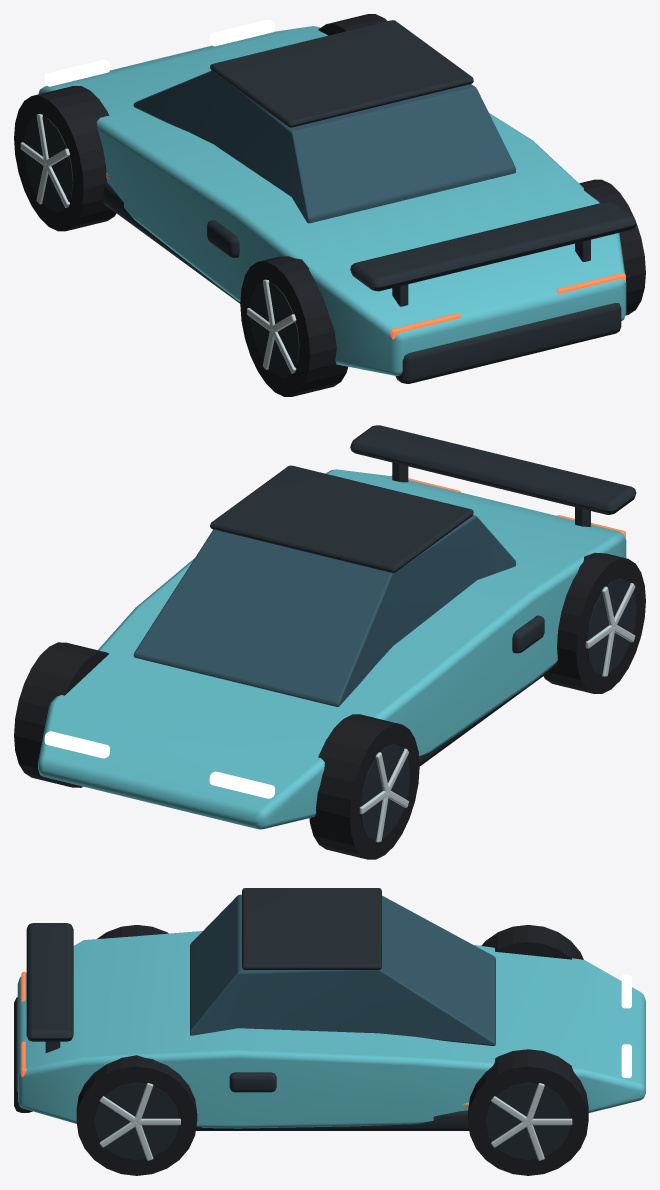
Rendered from jet-r.glb.
3 renders of one model, top to bottom at view 1: azimuth 30°, elevation 25°; view 2: azimuth 150°, elevation 25°; view 3: azimuth 270°, elevation 25°, orthographic. The views are drawn at different scales.
Parts seen in each view (by area): view 1: Aero_body, Cockpit, Roof_spar, Rear_spoiler, Wheel.001, Wheel, Rear_diffuser, Wheel_rim, Wheel_rim.001, Wheel.002, Side_skirt, Headlight.001 (+3 smaller); view 2: Aero_body, Cockpit, Roof_spar, Rear_spoiler, Wheel.001, Wheel, Wheel.003, Wheel_rim, Wheel_rim.001, Headlight, Headlight.001, Side_thruster (+1 smaller); view 3: Aero_body, Cockpit, Roof_spar, Wheel.003, Wheel.002, Rear_spoiler, Wheel_rim.002, Wheel_rim.003, Wheel.001, Side_skirt.001, Side_thruster.001, Wheel (+1 smaller).
Boxes of the visible parts, bbox=[...] form: Aero_body: bbox=[38, 26, 626, 375]; Cockpit: bbox=[133, 70, 515, 223]; Roof_spar: bbox=[210, 20, 473, 127]; Rear_spoiler: bbox=[350, 201, 636, 291]; Wheel.001: bbox=[14, 86, 116, 231]; Wheel: bbox=[240, 256, 347, 396]; Rear_diffuser: bbox=[395, 303, 621, 383]; Wheel_rim: bbox=[250, 282, 299, 377]; Wheel_rim.001: bbox=[23, 116, 73, 211]; Wheel.002: bbox=[579, 179, 645, 315]; Side_skirt: bbox=[103, 182, 240, 303]; Headlight.001: bbox=[209, 19, 274, 46]; Aero_body: bbox=[38, 469, 626, 829]; Cockpit: bbox=[133, 515, 515, 706]; Roof_spar: bbox=[210, 465, 473, 572]; Rear_spoiler: bbox=[350, 425, 636, 514]; Wheel.001: bbox=[309, 714, 419, 859]; Wheel: bbox=[543, 552, 645, 693]; Wheel.003: bbox=[14, 642, 108, 787]; Wheel_rim: bbox=[587, 578, 636, 674]; Wheel_rim.001: bbox=[360, 744, 410, 840]; Headlight: bbox=[209, 771, 274, 798]; Headlight.001: bbox=[44, 731, 109, 758]; Side_thruster: bbox=[512, 615, 544, 653]; Aero_body: bbox=[17, 931, 645, 1128]; Cockpit: bbox=[190, 894, 495, 1045]; Roof_spar: bbox=[242, 888, 381, 969]; Wheel.003: bbox=[468, 1049, 588, 1175]; Wheel.002: bbox=[76, 1055, 197, 1175]; Rear_spoiler: bbox=[26, 923, 73, 1041]; Wheel_rim.002: bbox=[94, 1082, 178, 1160]; Wheel_rim.003: bbox=[485, 1082, 570, 1160]; Wheel.001: bbox=[481, 925, 583, 959]; Side_skirt.001: bbox=[196, 1110, 469, 1130]; Side_thruster.001: bbox=[229, 1072, 276, 1092]; Wheel: bbox=[97, 925, 168, 938].
Bounding box in the file's own units: 2.32 × 1.34 × 4.29.
